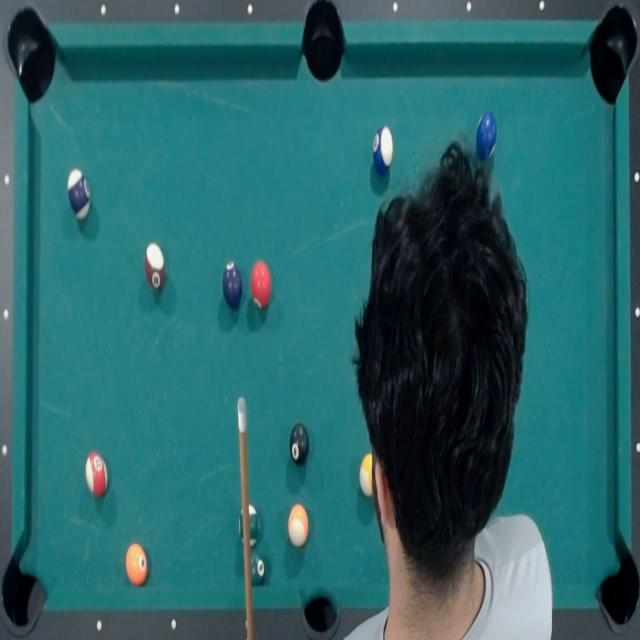black_8ball: (288, 422, 311, 466)
blue_solid: (474, 109, 499, 162)
blue_stripe: (369, 124, 395, 177)
cue_body: (236, 432, 256, 640)
cue_tip: (236, 395, 250, 433)
green_solid: (247, 552, 267, 586)
green_stripe: (238, 503, 260, 548)
maroon_stripe: (142, 241, 166, 292)
orange_solid: (124, 541, 150, 586)
orange_stripe: (286, 502, 310, 549)
player_body: (329, 136, 559, 640)
purple_solid: (221, 260, 244, 310)
purple_stripe: (65, 167, 92, 220)
red_solid: (249, 260, 272, 310)
red_stripe: (84, 450, 110, 500)
yellow_stripe: (358, 453, 372, 500)
